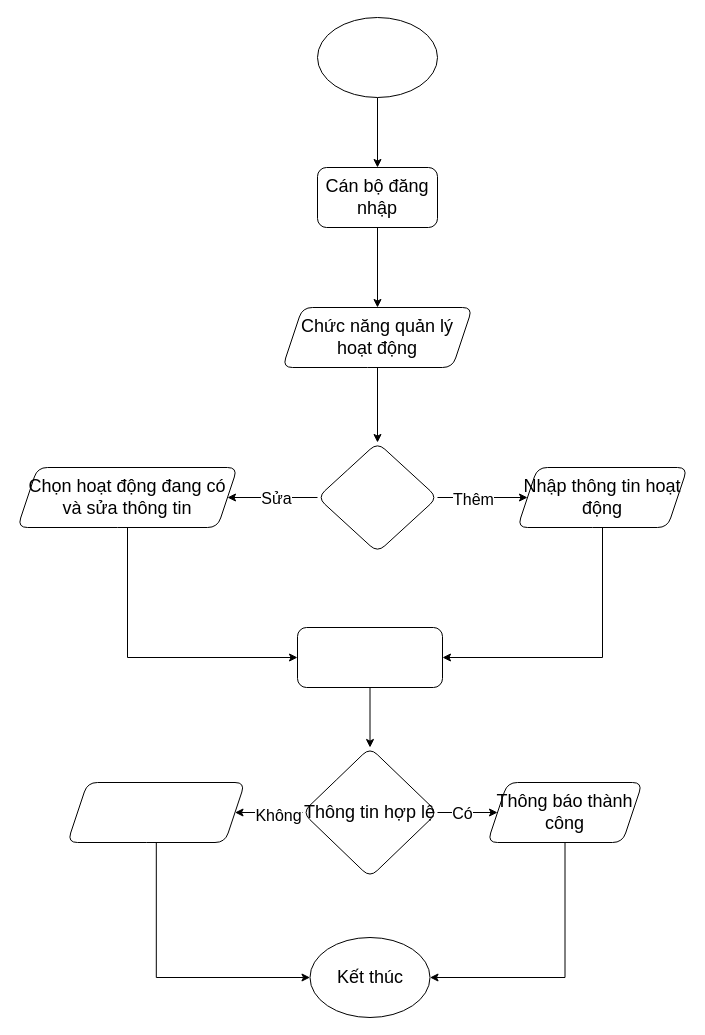
This 705x1035 diagram has some shape labels left out. The shapes that lost their labels are listed below. From the top down, each one's centre as x and y in pixels, then its label:
At [377,57]: "Bắt đầu".
At [377,497]: "Thao tác".
At [369,657]: "Kiểm tra thông tin".
At [155,812]: "Thông báo không thành công".
